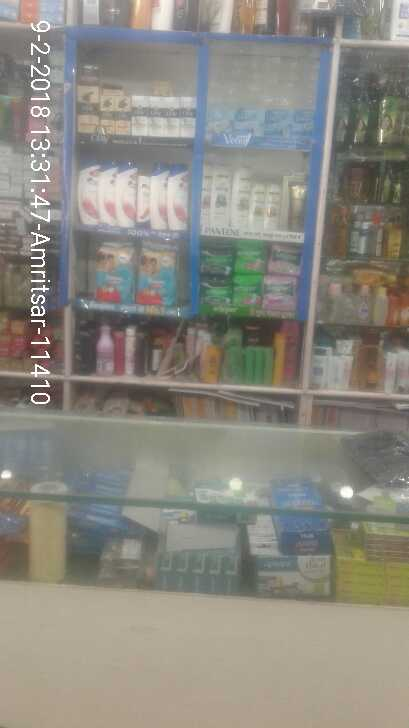venus: (287, 110, 317, 137), (207, 106, 234, 135), (260, 109, 287, 137), (234, 109, 260, 135)
